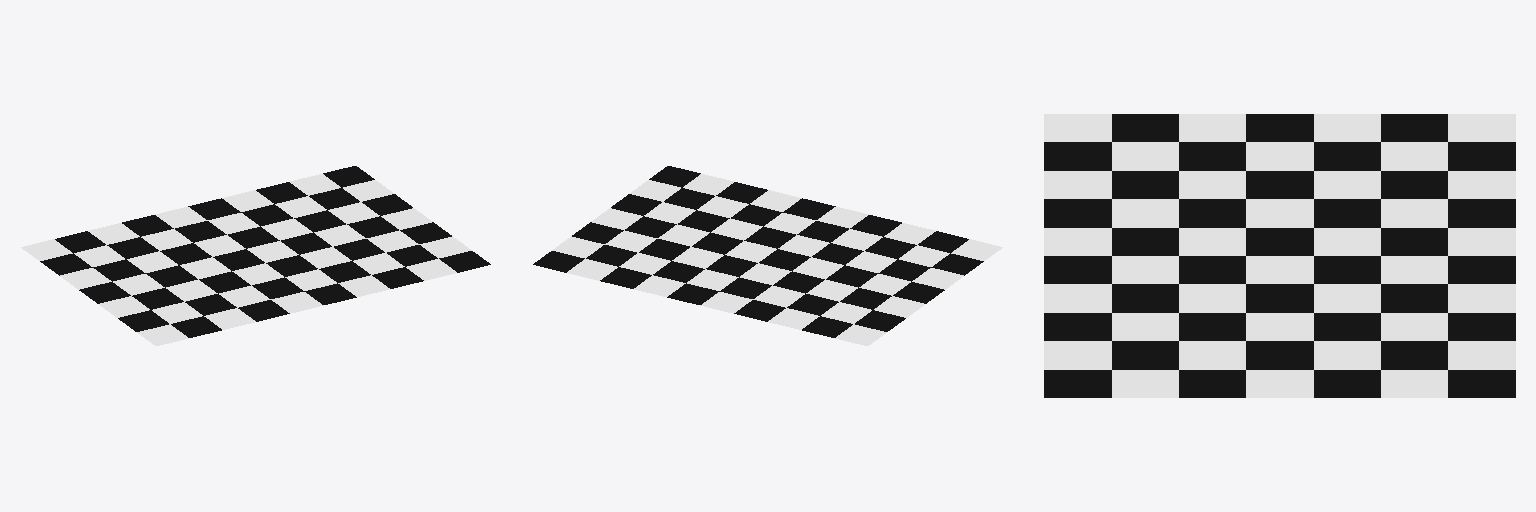
robot.urdf — calib_pattern:
<robot name="calib_pattern">
  <link name="world"/>
  <joint name="calib_pattern_joint" type="floating" >
    <parent link="world" />
    <child link="calib_pattern_link" />
    <!-- initial pose of object in the parent frame coordinates -->
    <origin xyz="0 0 0" rpy="0 0 0" />
  </joint>
  <link name="calib_pattern_link">
    <inertial>
      <mass value="1.0" />
      <!-- center of mass (com) is defined w.r.t. link local coordinate system -->
      <origin xyz="0 0 0" /> 
      <inertia  ixx="1.0" ixy="0.0"  ixz="0.0"  iyy="1.0"  iyz="0.0"  izz="1.0" />
    </inertial>
    <visual>
      <!-- visual origin is defined w.r.t. link local coordinate system -->
      <origin xyz="0 0 0" rpy="0 0 0" />
      <geometry>
       <mesh filename="package://sr_worlds/meshes/calib_pattern.dae" scale="0.001 0.001 0.001" /> 
      </geometry>
    </visual>
    <collision>
      <!-- collision origin is defined w.r.t. link local coordinate system -->
      <origin xyz="0 0 0" rpy="0 0 0 " />
      <geometry>
	<mesh filename="package://sr_worlds/meshes/calib_pattern.dae" scale="0.001 0.001 0.001" />
      </geometry>
    </collision>
  </link>
  <gazebo reference="calib_pattern_link">
<!--  <material>Gazebo/White</material> -->
    <turnGravityOff>True</turnGravityOff>
  </gazebo>
</robot>

--- What the picture shows (computed from the rendered views, not written in the file) ---
Views: 3 orthographic renders of the robot side by side, from view 1: azimuth 30°, elevation 25°; view 2: azimuth 150°, elevation 25°; view 3: azimuth 270°, elevation 25°.
Robot: calib_pattern — 2 links, 1 joints (1 floating); root link world; default pose: every joint at zero.
Links seen in each view (by area): view 1: calib_pattern_link; view 2: calib_pattern_link; view 3: calib_pattern_link.
Boxes of the visible links, x1,y1,x2,y2 form: calib_pattern_link: (21, 166, 490, 345); calib_pattern_link: (533, 166, 1002, 345); calib_pattern_link: (1044, 114, 1515, 397).
Bounding box of the posed robot: 0.0025 × 0.0018 × 0 m (x, y, z).
Meshes: 1 distinct files referenced, 1 mesh visuals loaded (1 Collada DAE).